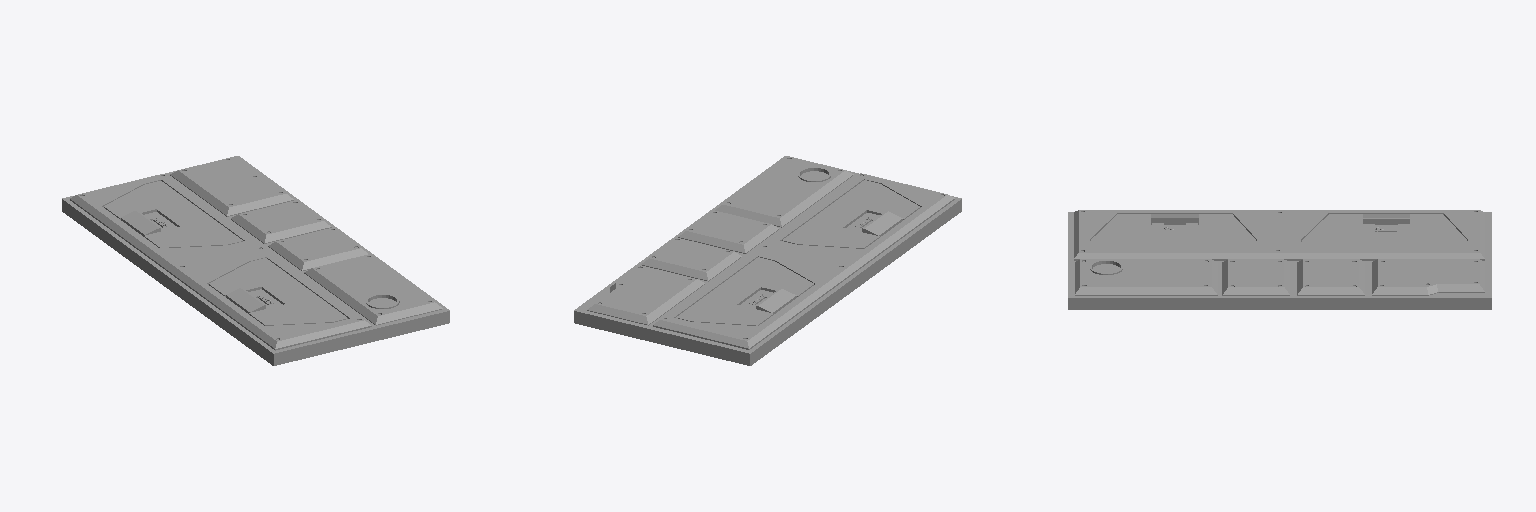
The model's file is s2_bottom_panel_3.obj.
3 views of the same model, side by side, from view 1: azimuth 30°, elevation 25°; view 2: azimuth 150°, elevation 25°; view 3: azimuth 270°, elevation 25° (orthographic).
Parts seen in each view (by area): view 1: mesh_0; view 2: mesh_0; view 3: mesh_0.
Boxes of the visible parts, x1=… form: mesh_0: x1=62, y1=156, x2=449, y2=365; mesh_0: x1=574, y1=156, x2=961, y2=365; mesh_0: x1=1068, y1=210, x2=1491, y2=309.
Size of the model in its own units: 18.38 by 2.23 by 38.16.